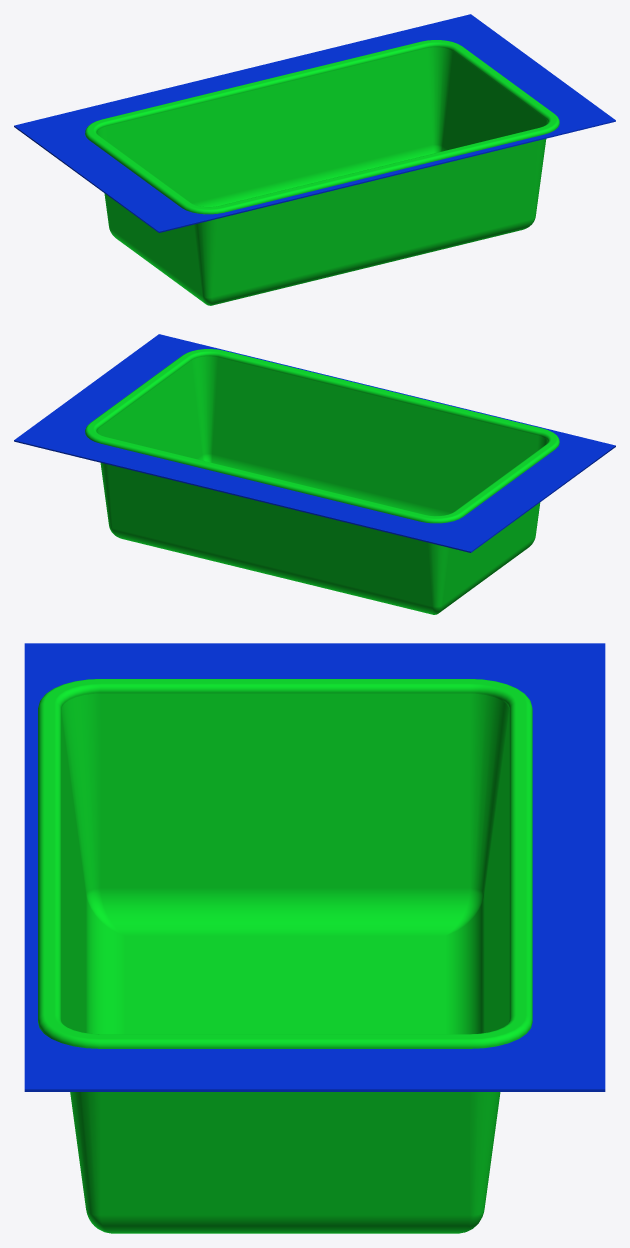
The model's file is Sink40.fbx.
3 renders of one model, top to bottom at view 1: azimuth 30°, elevation 25°; view 2: azimuth 150°, elevation 25°; view 3: azimuth 270°, elevation 25°, orthographic. The views are drawn at different scales.
Parts seen in each view (by area): view 1: Body_1_3.007; view 2: Body_1_3.007; view 3: Body_1_3.007.
Part boxes in pixels (left/top/right/bottom): Body_1_3.007: left=14, top=14, right=615, bottom=305; Body_1_3.007: left=14, top=334, right=615, bottom=614; Body_1_3.007: left=24, top=643, right=605, bottom=1233.
Size of the model in its own units: 102 by 25.18 by 55.88.
